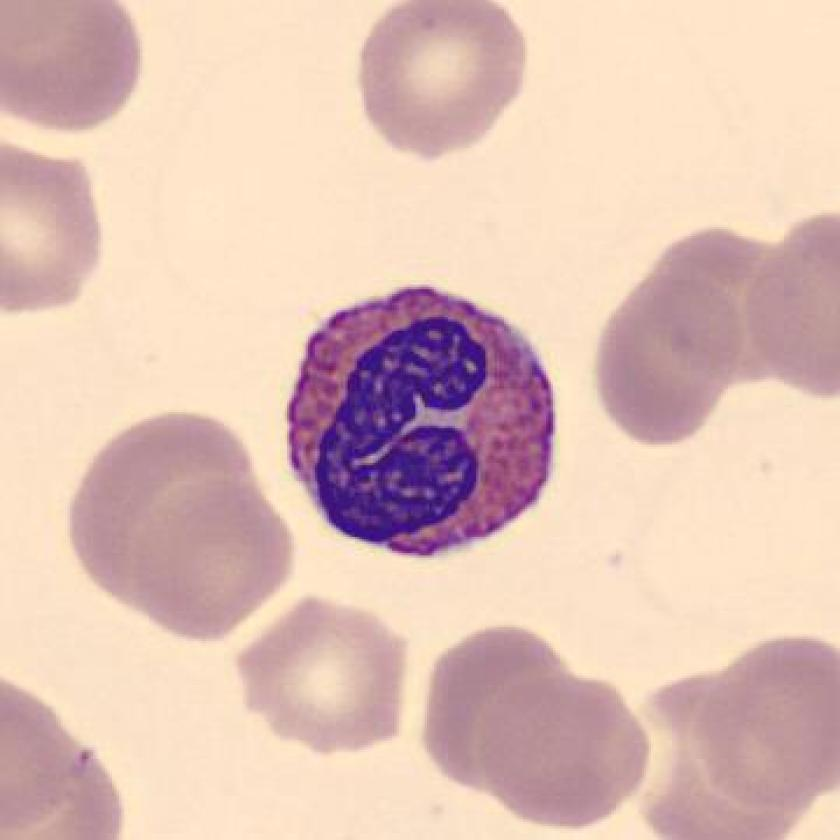eosinophil: (269, 269, 575, 575)
